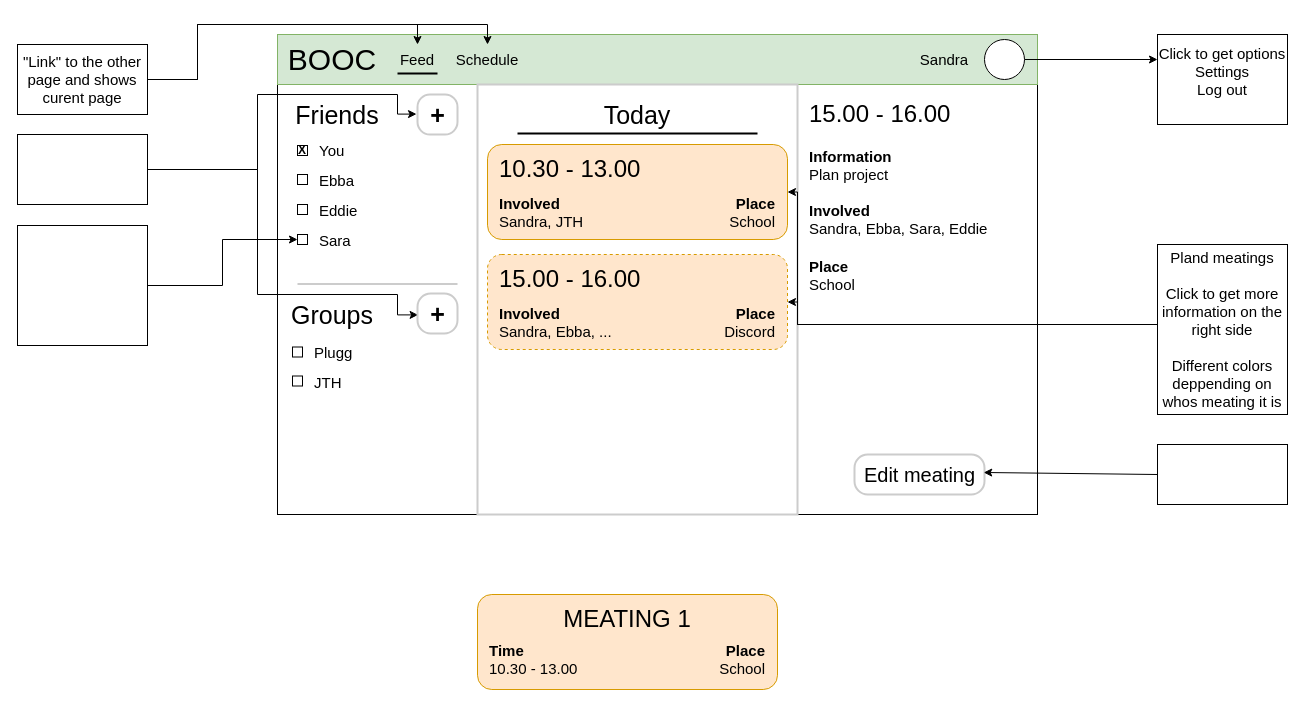
Image size: 1305x707. Some labels were removed from this diagram. The shapes that lost their labels are listed below. From the top down, each one's centre as x and y in pixels, then its label:
At point 82,169: "Open form for adding new person/grupe".
At point 82,285: "Checkbox to see/hide peoples public meatings Diffrent color for every person".
At point 1222,474: "Open form to edit the meating".
